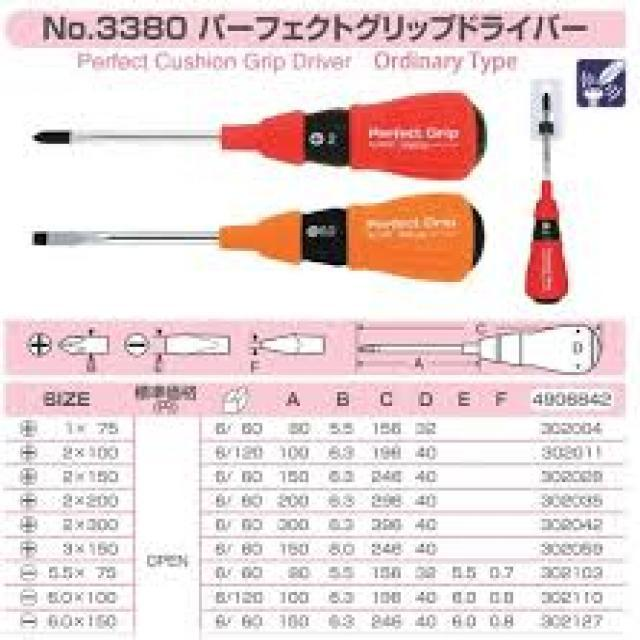screwdriver: (32, 85, 496, 183), (26, 190, 490, 286), (519, 89, 571, 306)
